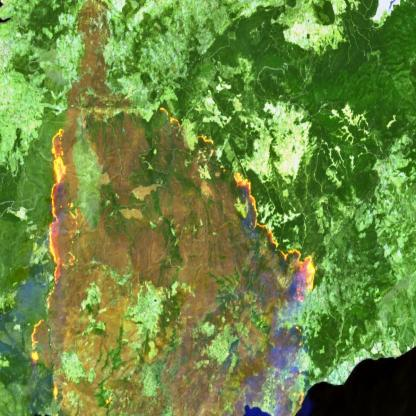fire: (155, 102, 322, 416), (27, 124, 100, 416)
